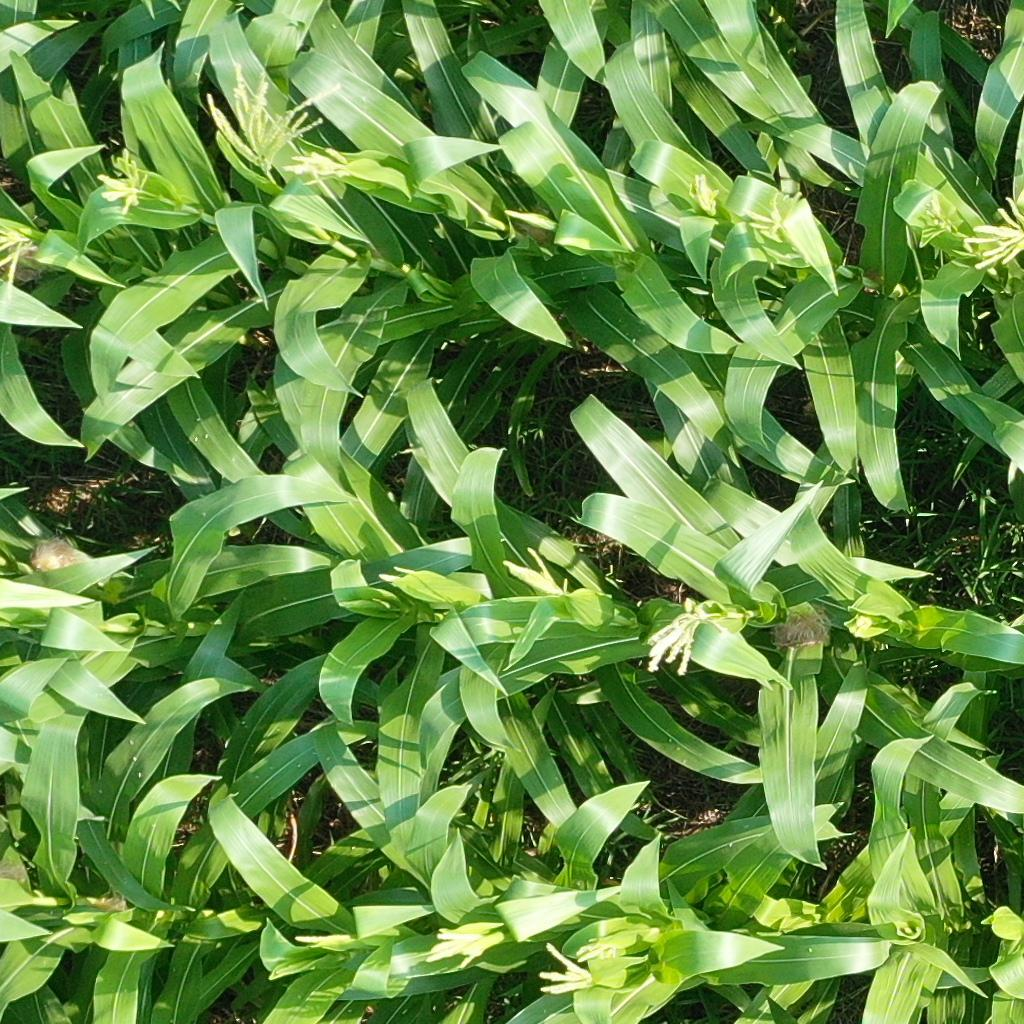Tassel: (200, 60, 345, 175), (637, 600, 722, 677), (960, 191, 1024, 272), (501, 546, 575, 602), (94, 147, 151, 215), (538, 939, 597, 998), (280, 146, 357, 190), (421, 924, 485, 973), (1, 223, 36, 312), (741, 194, 787, 239), (292, 928, 354, 949), (574, 935, 621, 962), (688, 172, 719, 212), (503, 208, 555, 231), (924, 190, 949, 226), (379, 561, 414, 584), (851, 615, 873, 638)
